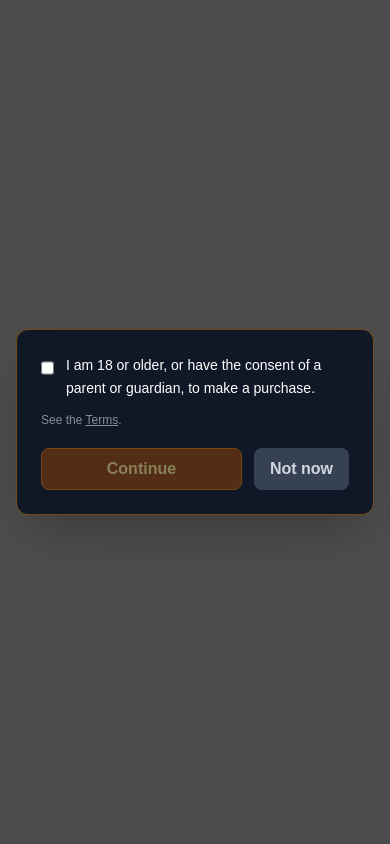
Test: AgePrompt › shows a failure and stays open
Click the checkbox at [48, 368], box left=41, top=358, right=54, bottom=378
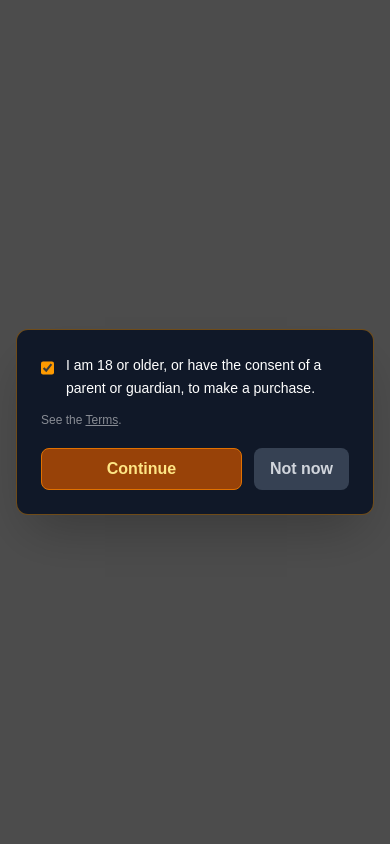
Click the button "Continue" at [141, 469], box left=41, top=448, right=242, bottom=490
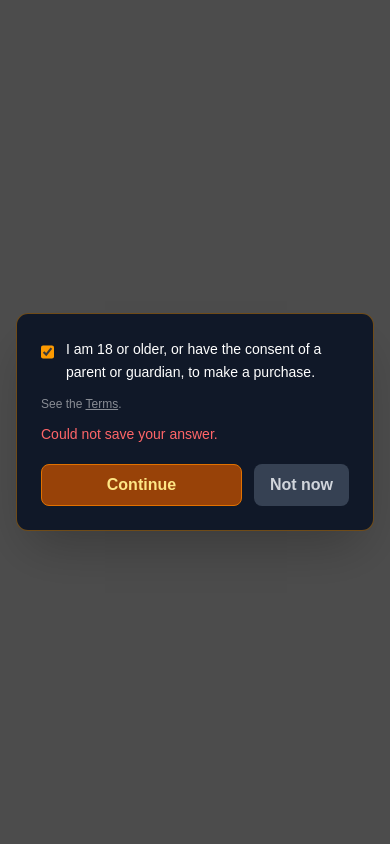
Expected: the text "Could not save your answer." is shown, left=41, top=426, right=218, bottom=442
